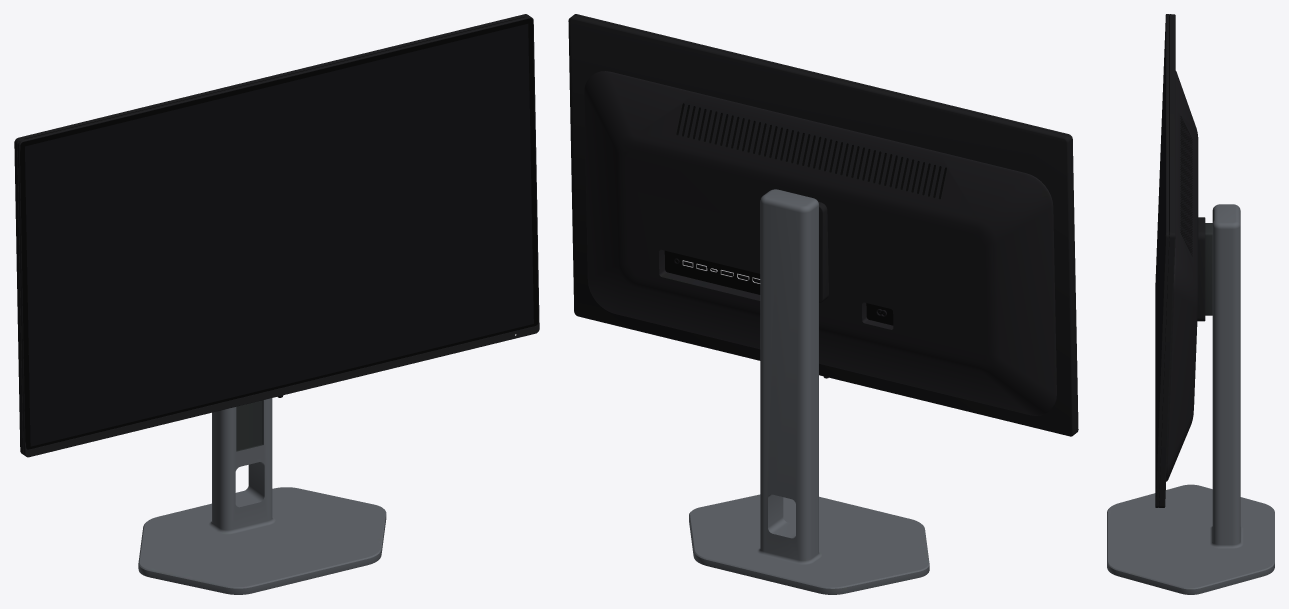
File: monitor.glb
The picture shows the model from 3 angles, left to right: view 1: azimuth 30°, elevation 25°; view 2: azimuth 150°, elevation 25°; view 3: azimuth 270°, elevation 25°; orthographic projection. The views are drawn at different scales.
Visible parts, largest first — view 1: mon_screen, NEW_monitor_root__mesh, NEW_monitor_lift__mesh; view 2: NEW_monitor_lift__mesh, NEW_monitor_root__mesh; view 3: NEW_monitor_root__mesh, NEW_monitor_lift__mesh, mon_screen.
Boxes of the visible parts, x1,y1,x2,y2 form: mon_screen: [25, 24, 533, 446]; NEW_monitor_root__mesh: [138, 398, 386, 594]; NEW_monitor_lift__mesh: [14, 14, 539, 457]; NEW_monitor_lift__mesh: [568, 14, 1078, 436]; NEW_monitor_root__mesh: [689, 189, 929, 594]; NEW_monitor_root__mesh: [1107, 204, 1274, 594]; NEW_monitor_lift__mesh: [1155, 14, 1212, 507]; mon_screen: [1156, 25, 1165, 485].
Bounding box in the file's own units: 0.64 × 0.5667 × 0.205.
Materials: 3 (2 with a texture image).
